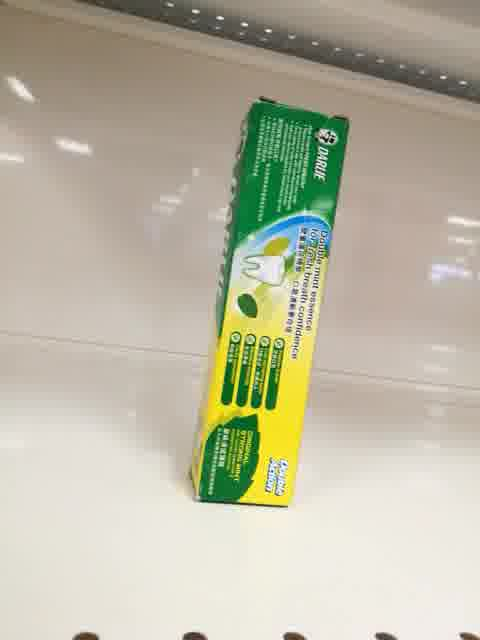toothpaste: (189, 97, 350, 508)
